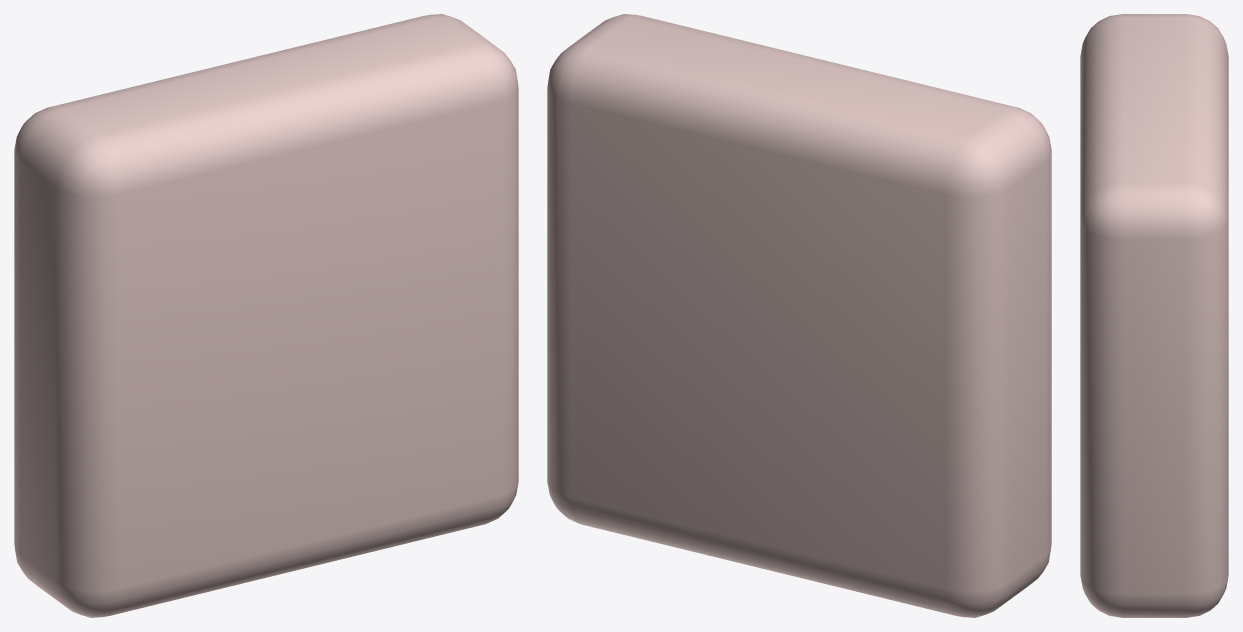
Rendered from cushion_rose.glb.
The picture shows the model from 3 angles, left to right: view 1: azimuth 30°, elevation 25°; view 2: azimuth 150°, elevation 25°; view 3: azimuth 270°, elevation 25°; orthographic projection. The views are drawn at different scales.
Parts seen in each view (by area): view 1: cushion; view 2: cushion; view 3: cushion.
Boxes of the visible parts, x1,y1,x2,y2 form: cushion: [14, 14, 518, 617]; cushion: [547, 14, 1051, 617]; cushion: [1080, 14, 1228, 617].
Bounding box in the file's own units: 0.45 × 0.45 × 0.14.
